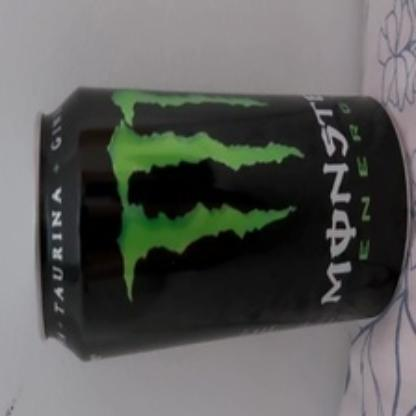Can: (32, 84, 412, 362)
